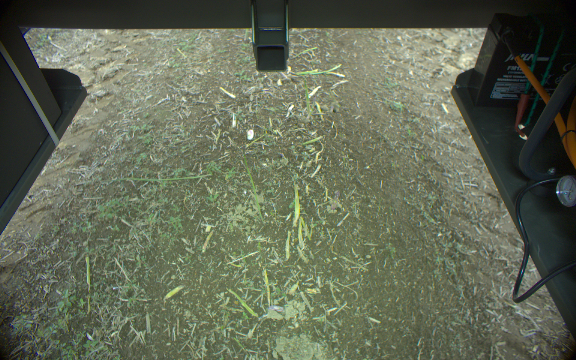aspa: (241, 154, 260, 216), (223, 286, 255, 317), (295, 64, 340, 77), (84, 255, 92, 315), (161, 283, 184, 300), (262, 265, 271, 308), (291, 184, 300, 226), (303, 80, 311, 114), (284, 230, 291, 259), (297, 219, 303, 250)
